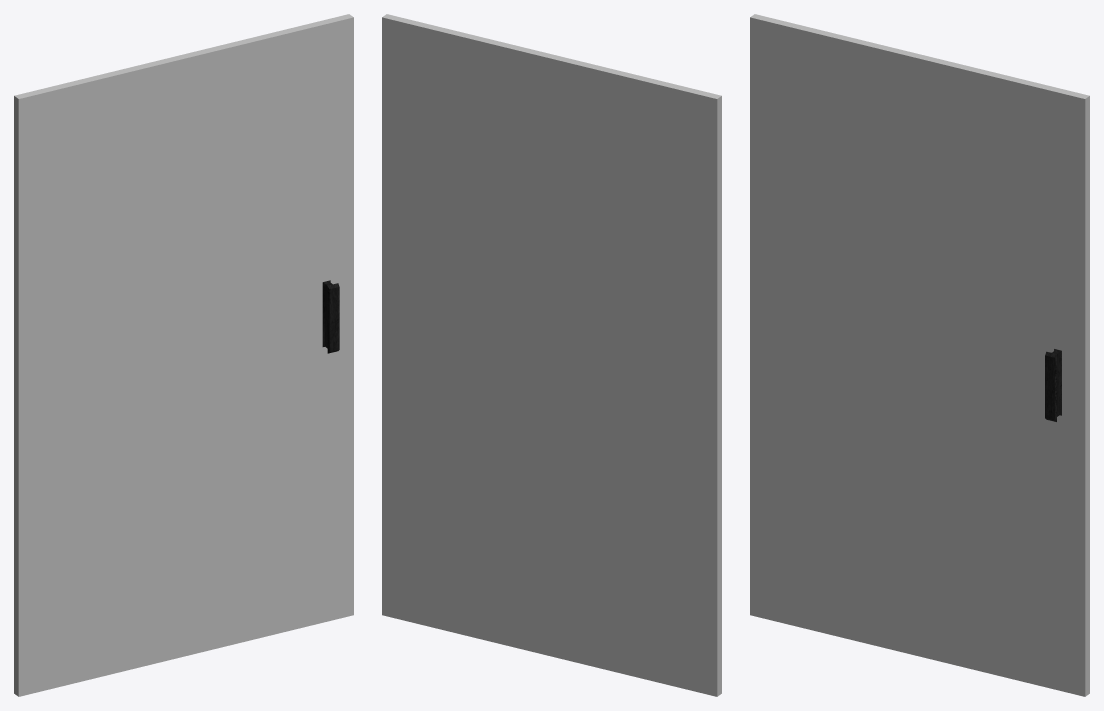
The model's file is keuken1_DoorRight1.fbx.
3 renders of one model, left to right at view 1: azimuth 30°, elevation 25°; view 2: azimuth 150°, elevation 25°; view 3: azimuth 330°, elevation 25°, orthographic.
Visible parts, largest first — view 1: Cube.006; view 2: Cube.006; view 3: Cube.006.
Boxes of the visible parts, x1,y1,x2,y2 form: Cube.006: (14,14,353,696); Cube.006: (382,14,721,696); Cube.006: (750,14,1089,696).
Size of the model in its own units: 47.01 by 80.15 by 3.05.
